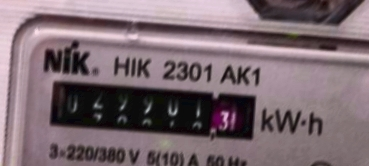0: (163, 91, 180, 117), (62, 89, 79, 112)
1: (190, 93, 204, 118)
2: (88, 86, 105, 109)
3: (214, 107, 231, 131)
9: (139, 91, 153, 115), (114, 88, 128, 110)
screen: (39, 71, 264, 149)
